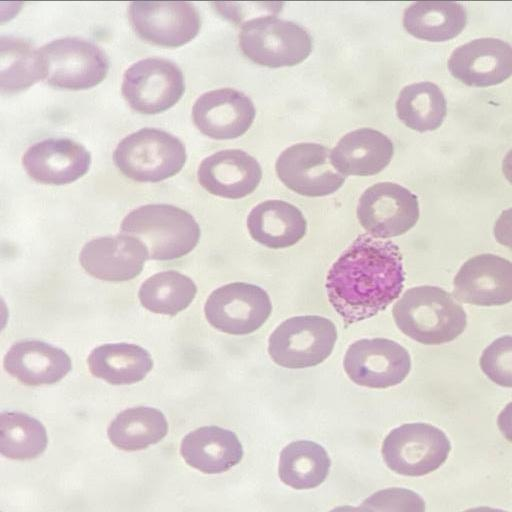Infected: (327, 223, 404, 328)
Uninfected: (119, 202, 199, 261), (392, 285, 464, 344), (113, 127, 186, 182), (276, 142, 344, 198), (267, 314, 336, 368), (39, 36, 107, 89), (204, 281, 270, 335), (121, 58, 185, 113), (381, 422, 447, 475), (239, 17, 308, 67), (343, 336, 409, 388), (356, 181, 418, 236), (331, 126, 394, 178), (448, 36, 512, 87), (22, 136, 90, 184), (79, 234, 148, 281), (191, 87, 254, 138), (198, 148, 262, 198), (129, 2, 199, 47), (3, 338, 70, 385), (452, 254, 511, 306), (180, 425, 241, 473), (246, 198, 304, 247), (88, 341, 152, 384), (107, 406, 167, 451), (138, 269, 196, 315), (396, 80, 446, 133), (278, 439, 330, 488), (1, 36, 46, 92), (403, 1, 464, 41), (0, 410, 48, 459)
